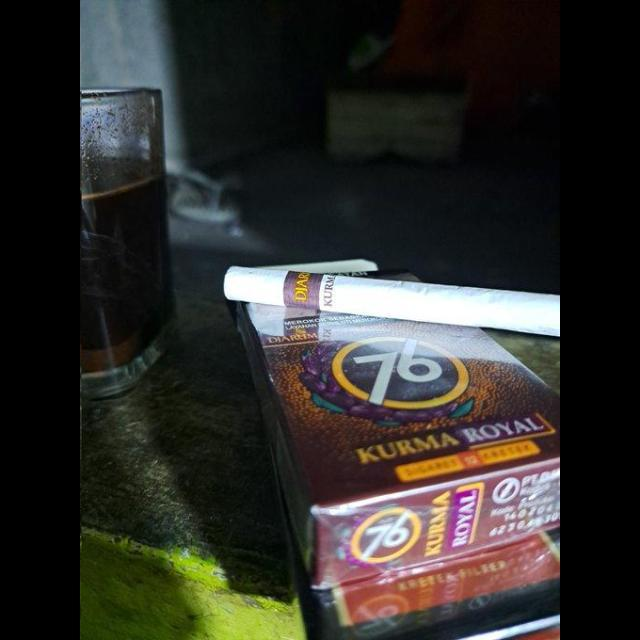rokok: (218, 262, 560, 342)
